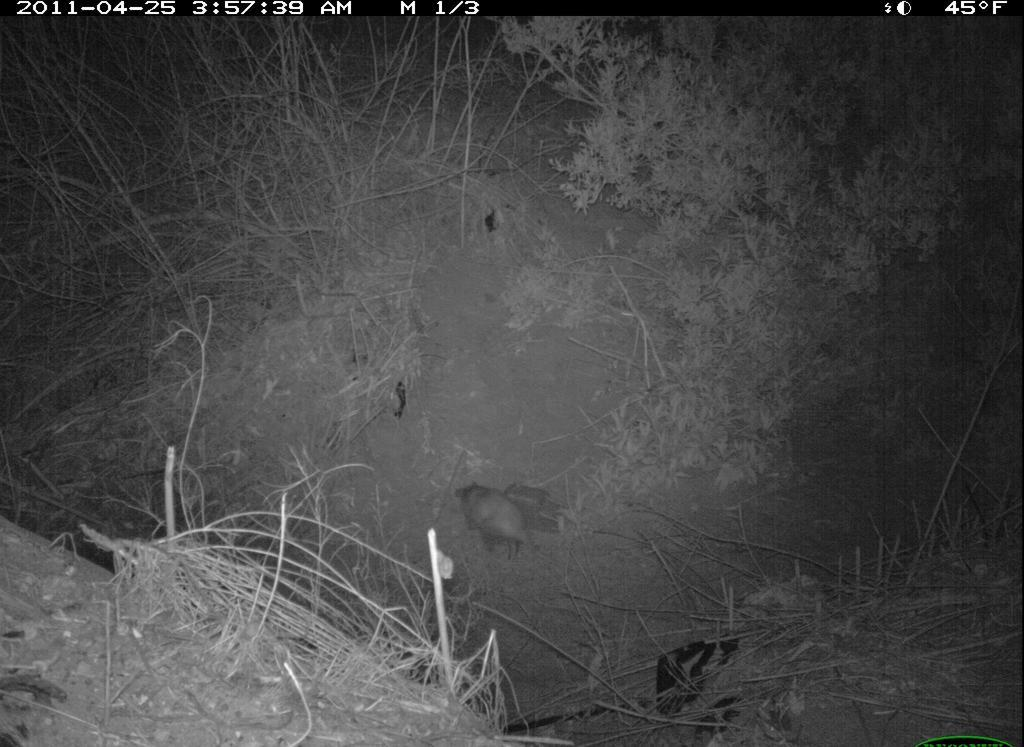opossum: (450, 460, 568, 579)
